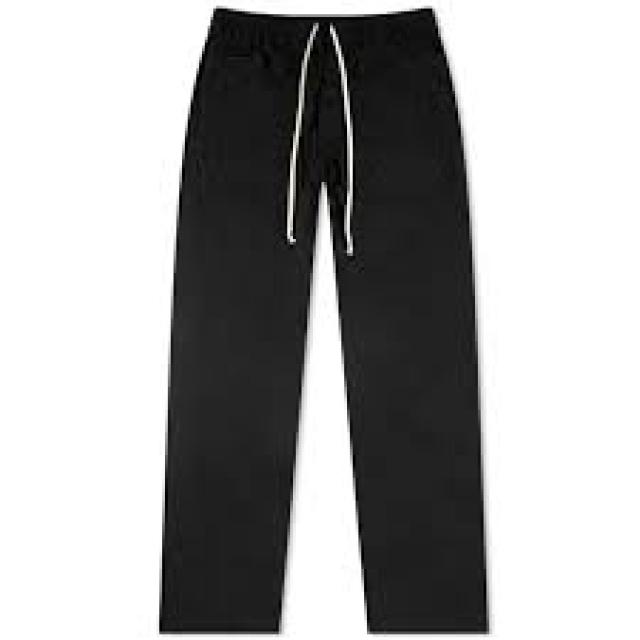pants: (160, 4, 500, 638)
